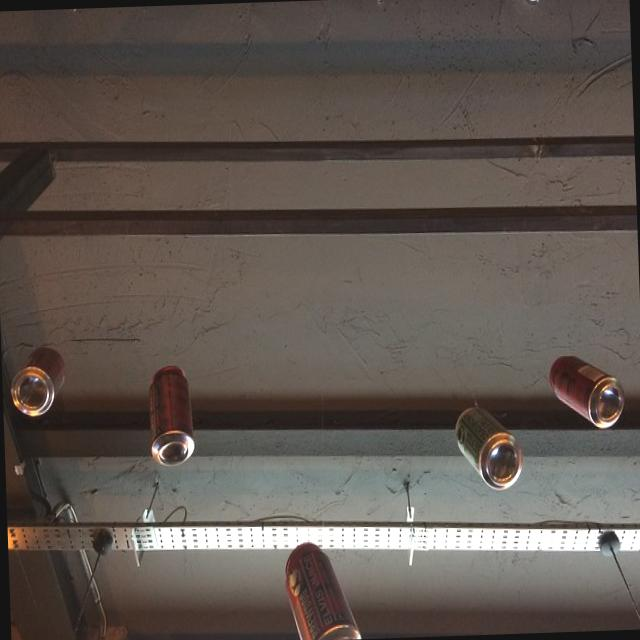Recycle: (282, 542, 361, 640), (452, 399, 526, 494), (546, 348, 628, 430), (146, 359, 198, 468), (8, 346, 68, 424)
